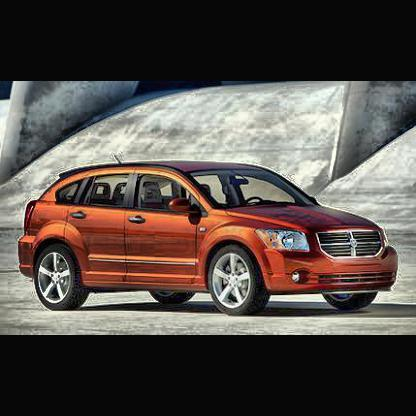Dodge Caliber Wagon 2012: (19, 155, 401, 315)
